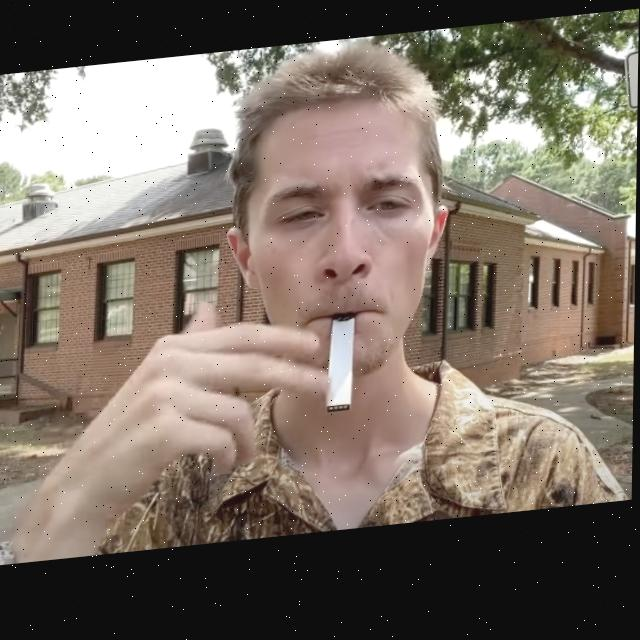vape: (326, 320, 356, 422)
